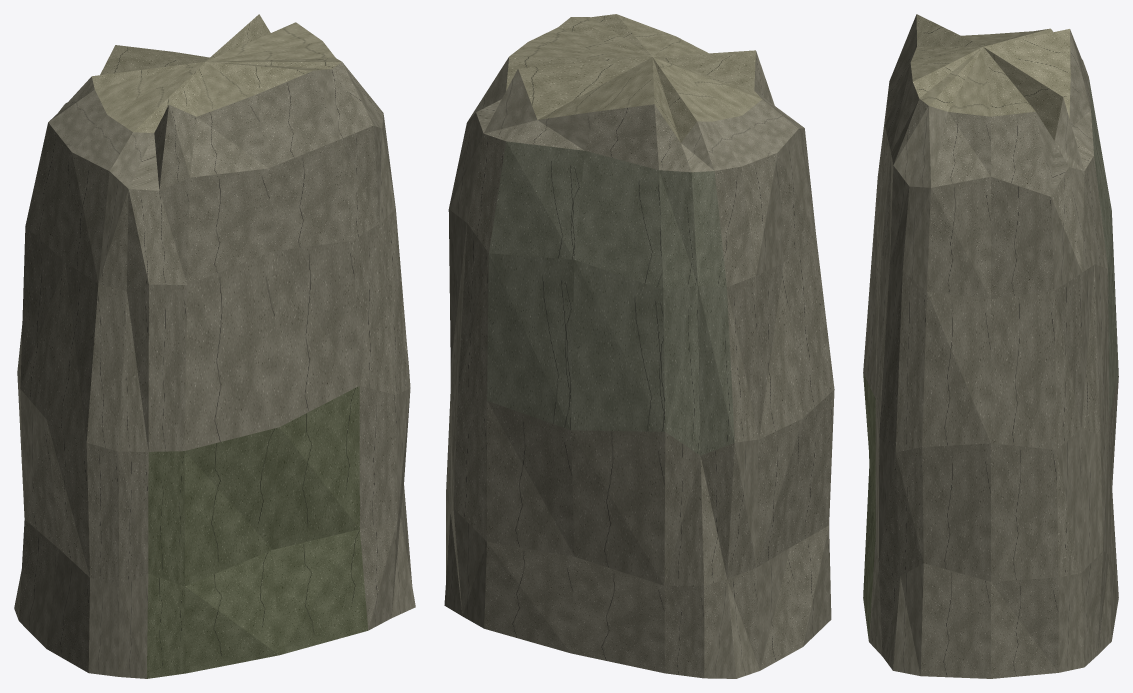
File: SM_QD_Reef_C_AngularFin.fbx
3 renders of one model, left to right at view 1: azimuth 30°, elevation 25°; view 2: azimuth 150°, elevation 25°; view 3: azimuth 270°, elevation 25°, orthographic.
Visible parts, largest first — view 1: SM_QD_Reef_C_AngularFin; view 2: SM_QD_Reef_C_AngularFin; view 3: SM_QD_Reef_C_AngularFin.
Part boxes in pixels (x1,y1,x2,y2): SM_QD_Reef_C_AngularFin: [14, 14, 415, 678]; SM_QD_Reef_C_AngularFin: [444, 14, 834, 678]; SM_QD_Reef_C_AngularFin: [863, 14, 1118, 678].
Bounding box in the file's own units: 3 × 2 × 4.7.
1 material, 1 textured.
